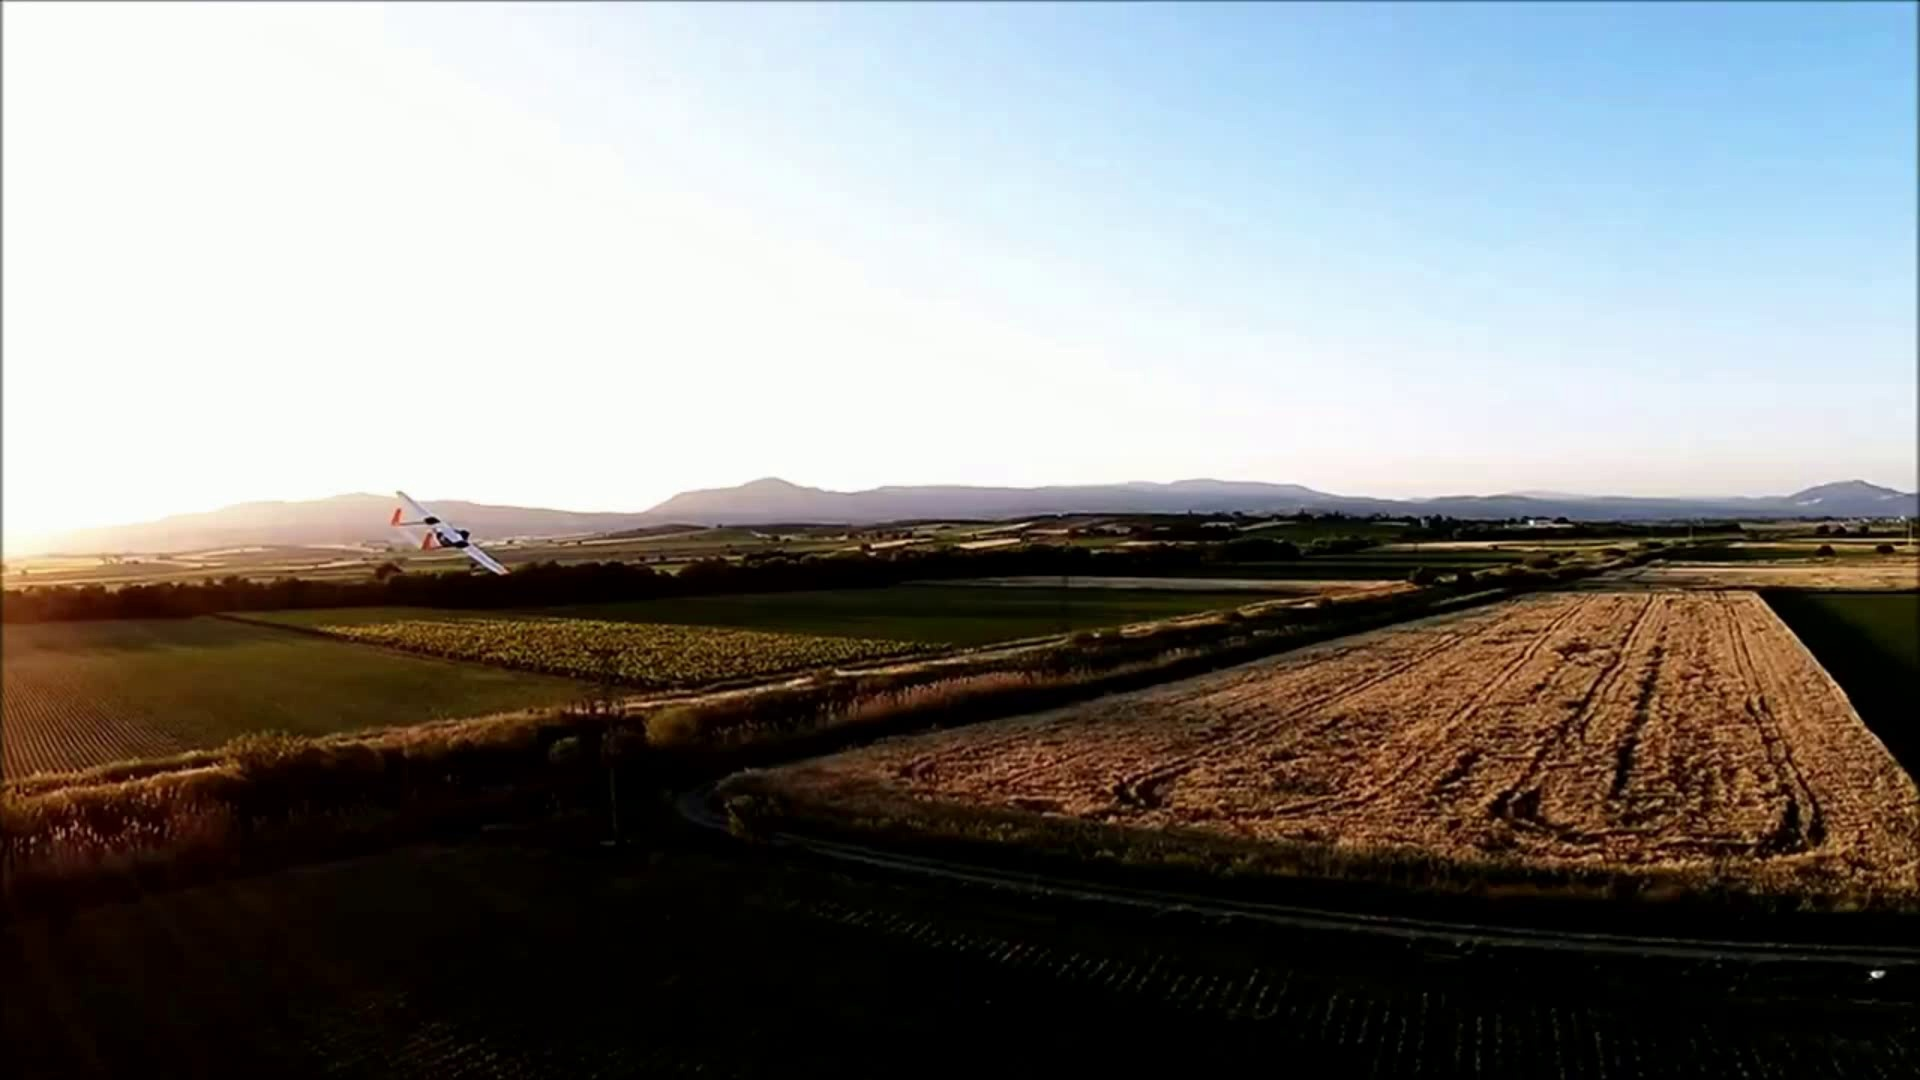airplane: (385, 492, 510, 578)
